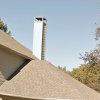Chimney: (30, 9, 48, 67)
